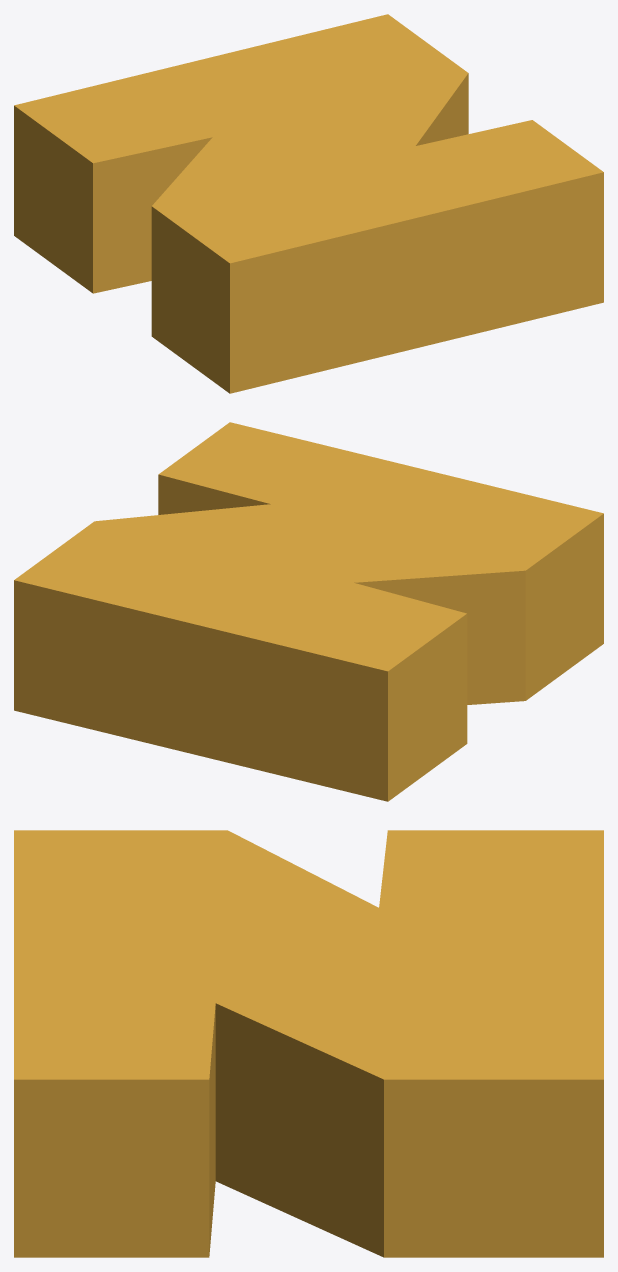
File: maize_n.fbx
The picture shows the model from 3 angles, top to bottom: view 1: azimuth 30°, elevation 25°; view 2: azimuth 150°, elevation 25°; view 3: azimuth 270°, elevation 25°; orthographic projection. The views are drawn at different scales.
Visible parts, largest first — view 1: Plane.002; view 2: Plane.002; view 3: Plane.002.
Part boxes in pixels (x1,y1,x2,y2): Plane.002: (14,14,603,393); Plane.002: (14,422,603,801); Plane.002: (14,830,603,1257).
Size of the model in its own units: 447 by 149 by 447.
